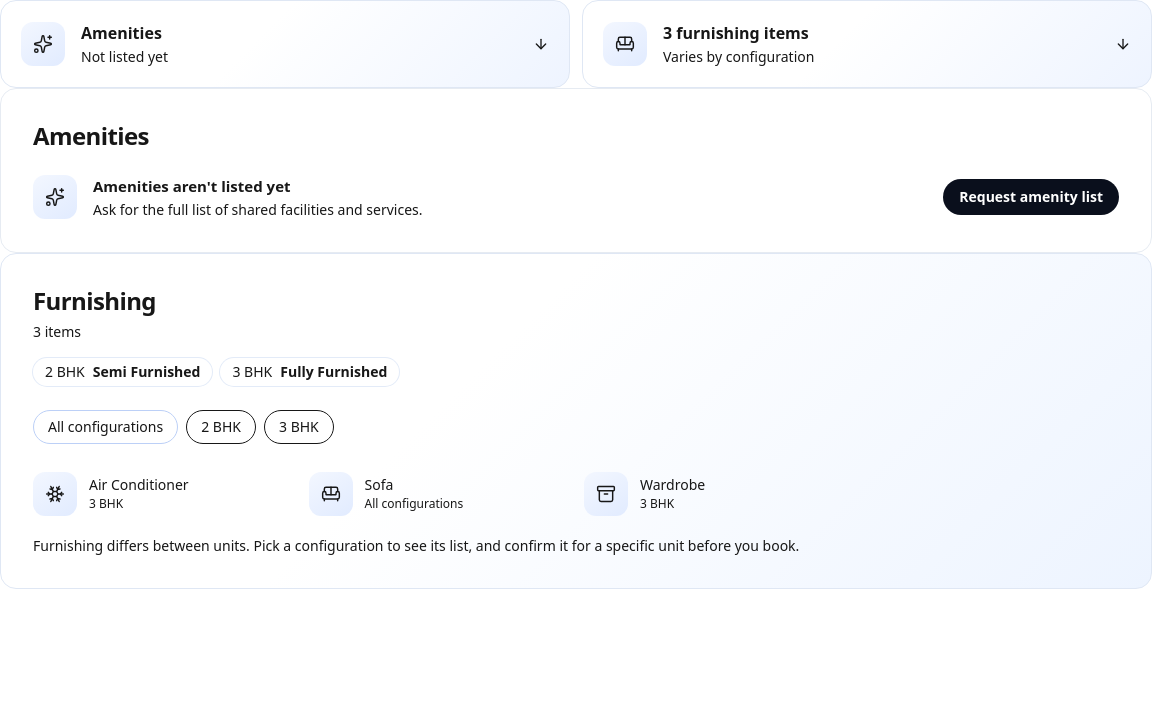
Test: ProjectAmenitiesSection › names the configurations each item comes with, and compares them on demand
Expected: the text "3 BHK" next to "Fully Furnished" is shown, 232,362 -> 272,380
Expected: the text "Fully Furnished" is shown, 280,362 -> 387,382
Click the button "2 BHK": (221, 426) 186,410 -> 256,444
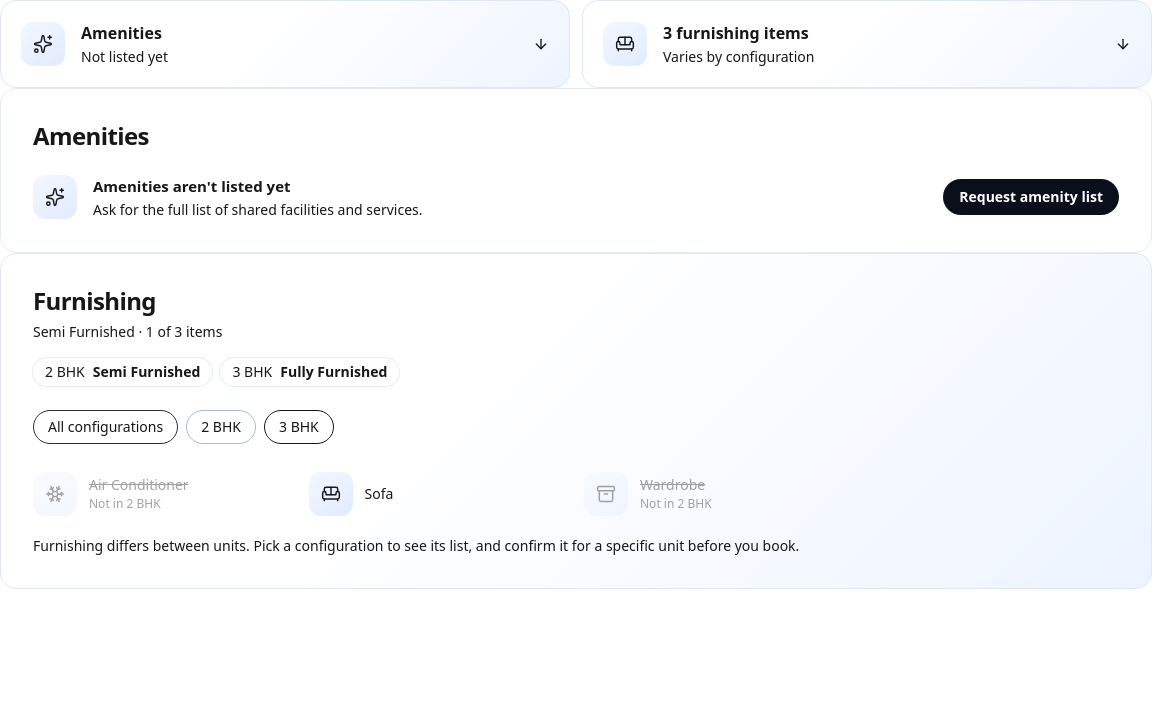
Expected: the text "Not in 2 BHK" is shown 2 times, 89,495 -> 161,512; 640,496 -> 712,512
